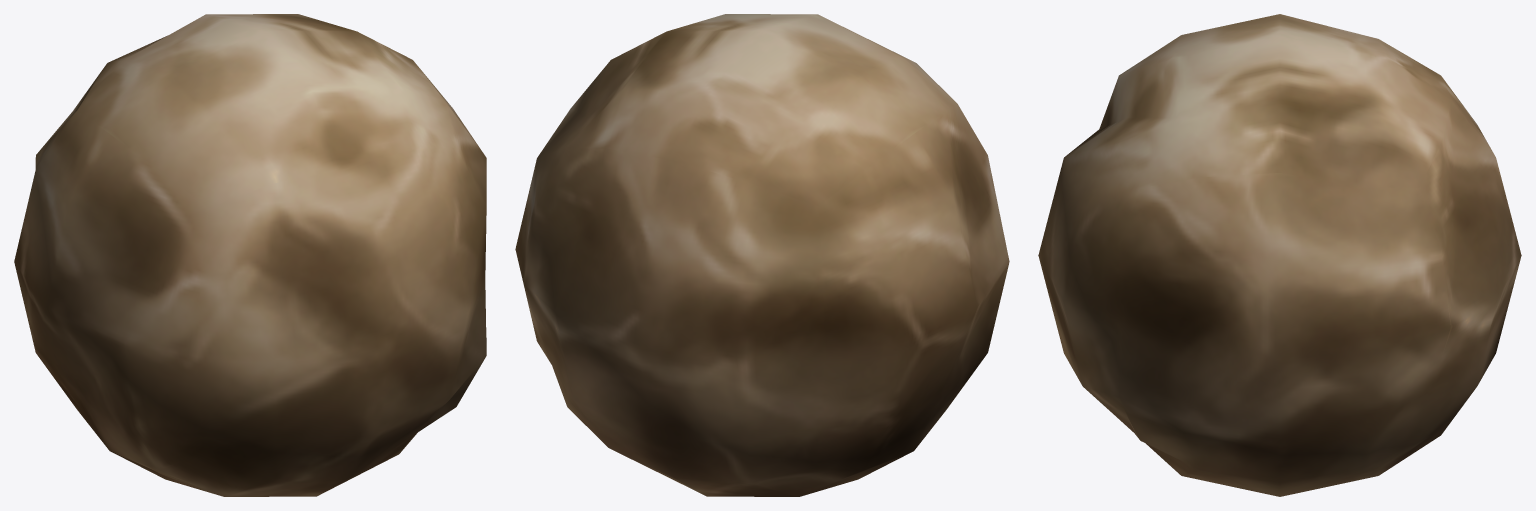
Rendered from Stone_Ball.FBX.
3 renders of one model, left to right at view 1: azimuth 30°, elevation 25°; view 2: azimuth 150°, elevation 25°; view 3: azimuth 270°, elevation 25°, orthographic. The views are drawn at different scales.
Parts seen in each view (by area): view 1: Stone_Ball; view 2: Stone_Ball; view 3: Stone_Ball.
Part boxes in pixels (x1,y1,x2,y2): Stone_Ball: (14,14,486,496); Stone_Ball: (515,14,1009,496); Stone_Ball: (1038,14,1521,496).
Size of the model in its own units: 8 by 8 by 8.
1 material, 1 textured.
